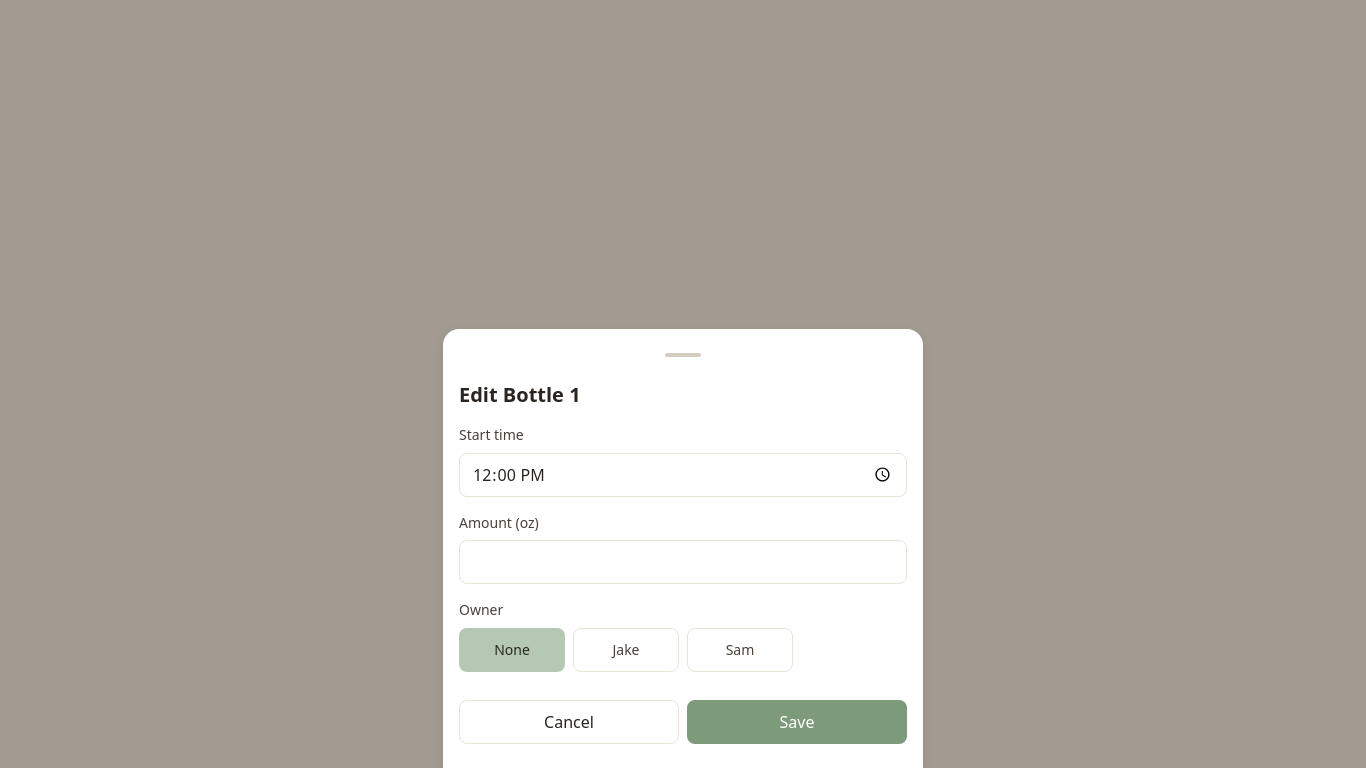
EventEditDrawerV3 › flags a bottle logged within 10 minutes of a recorded bottle
Replace the text in the time field labelled "Start time" with "08:05". click: point(683, 475)
box: [459,453,907,497]
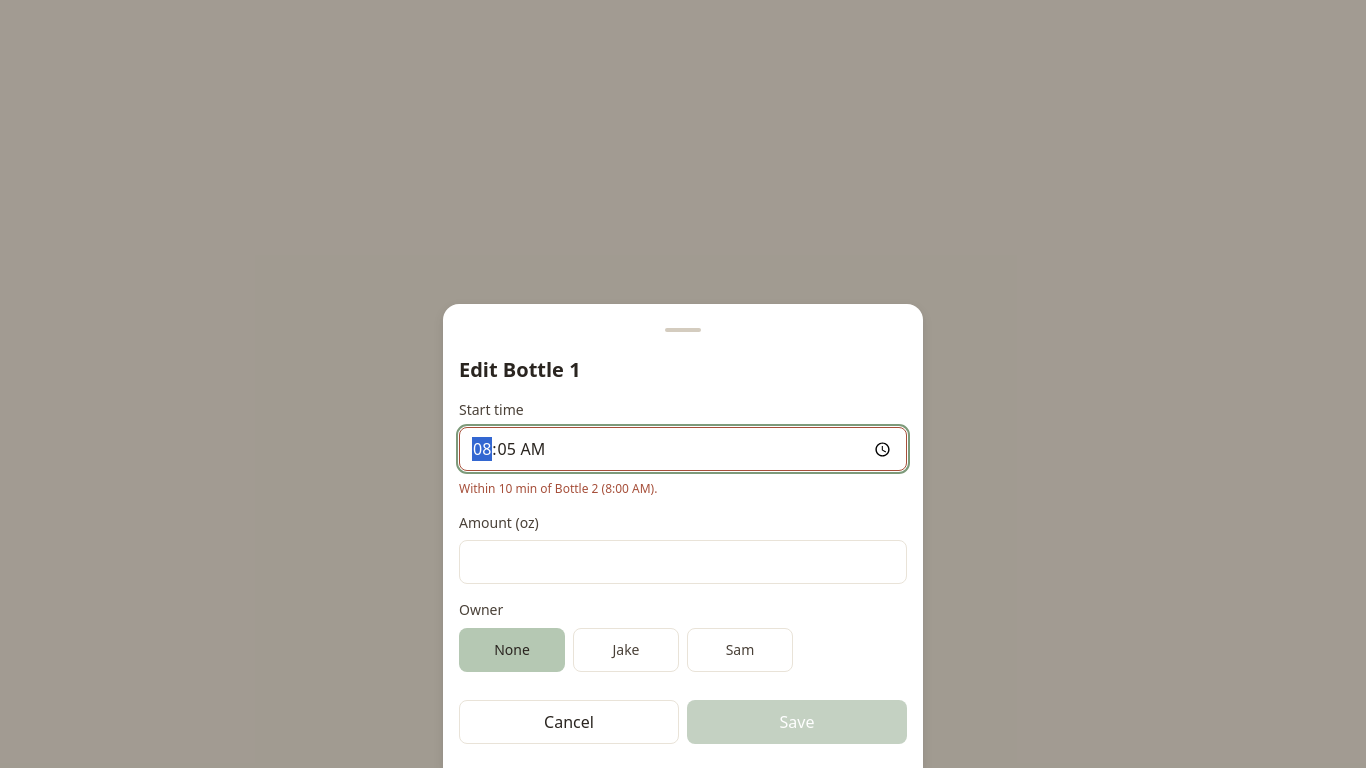
Result: the message shows "Within 10 min of Bottle 2" at [459,480,657,497]
